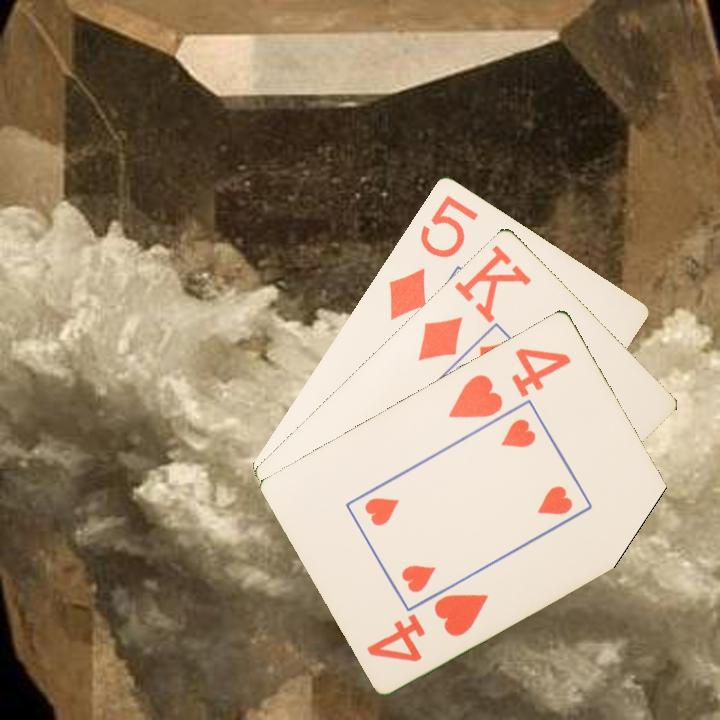4h: (444, 343, 575, 421), (363, 589, 492, 665)
5d: (384, 191, 481, 323)
Kd: (414, 241, 535, 364)
